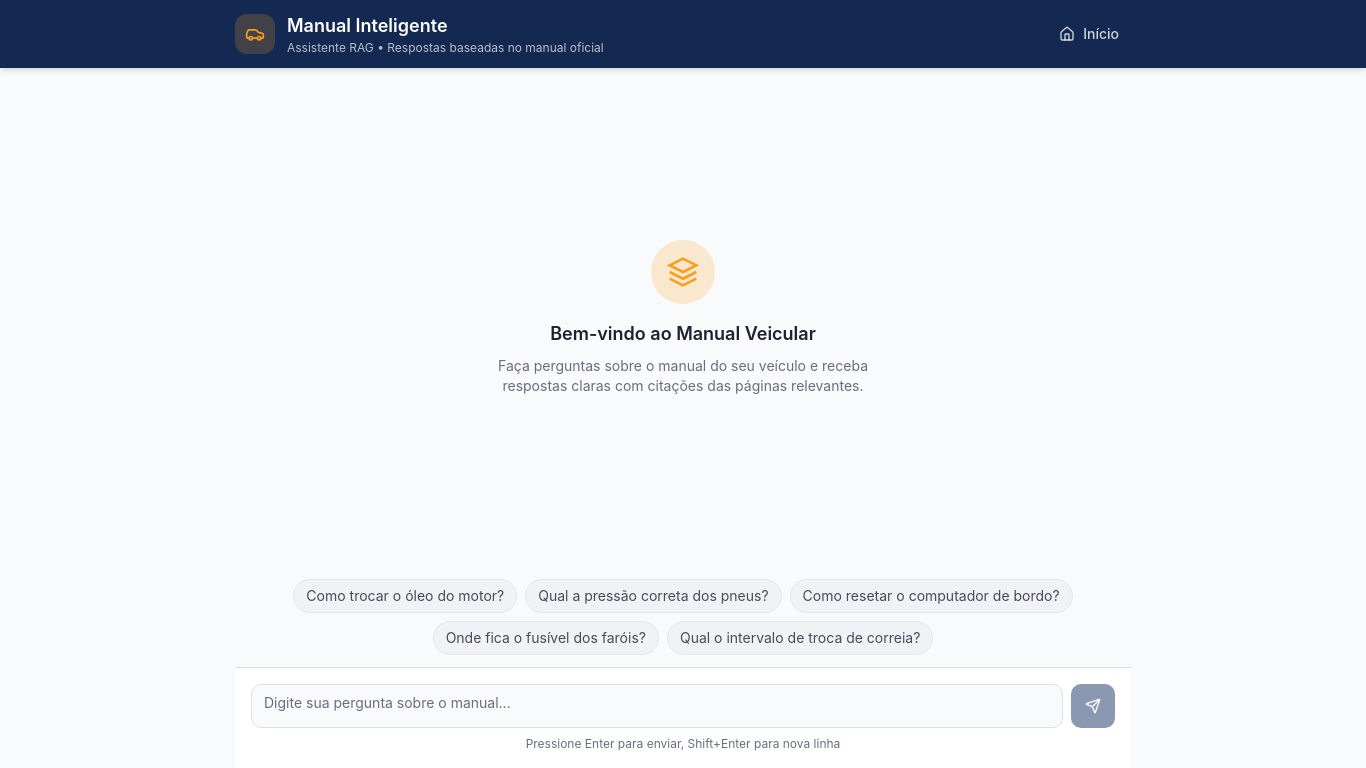
ChatPage (integration) › sends message and shows out-of-scope assistant message for unsupported vehicles
Type "Pergunta sobre um veículo não suportado" into the text box with placeholder "Digite sua pergunta sobre o manual..." at (657, 706), box top-left (251, 684), bottom-right (1063, 728)
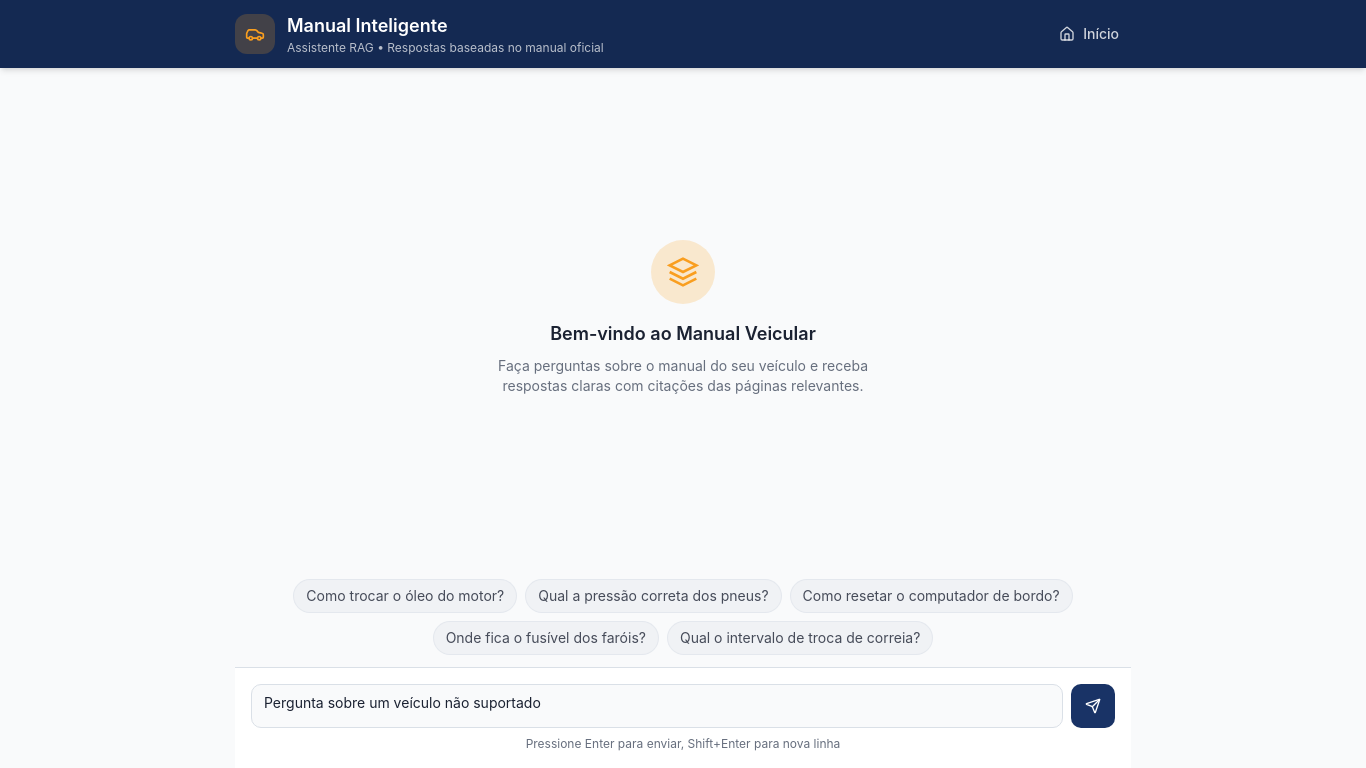
Click the button named "Enviar" at (1093, 706), box top-left (1071, 684), bottom-right (1115, 728)
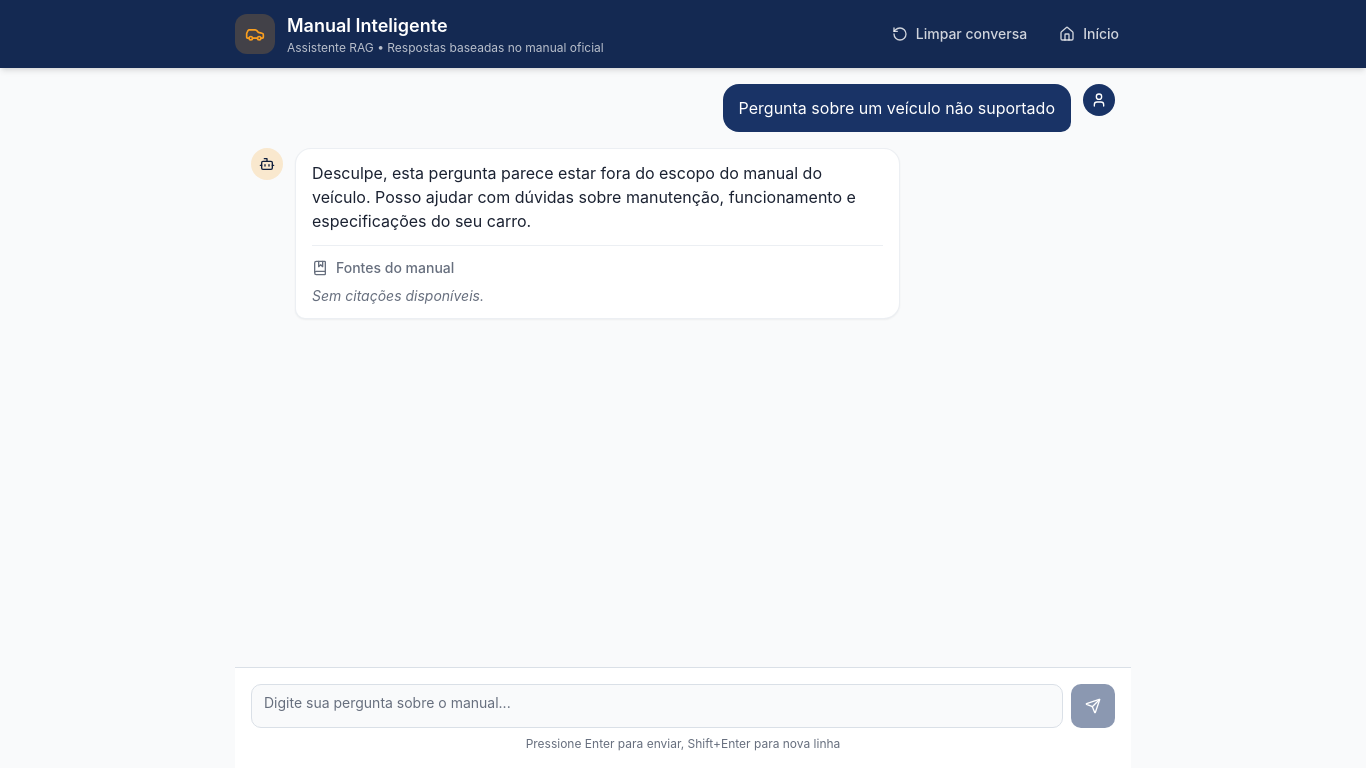
Result: the text "fora do escopo do manual do veículo" is shown at top-left (312, 163), bottom-right (860, 231)
